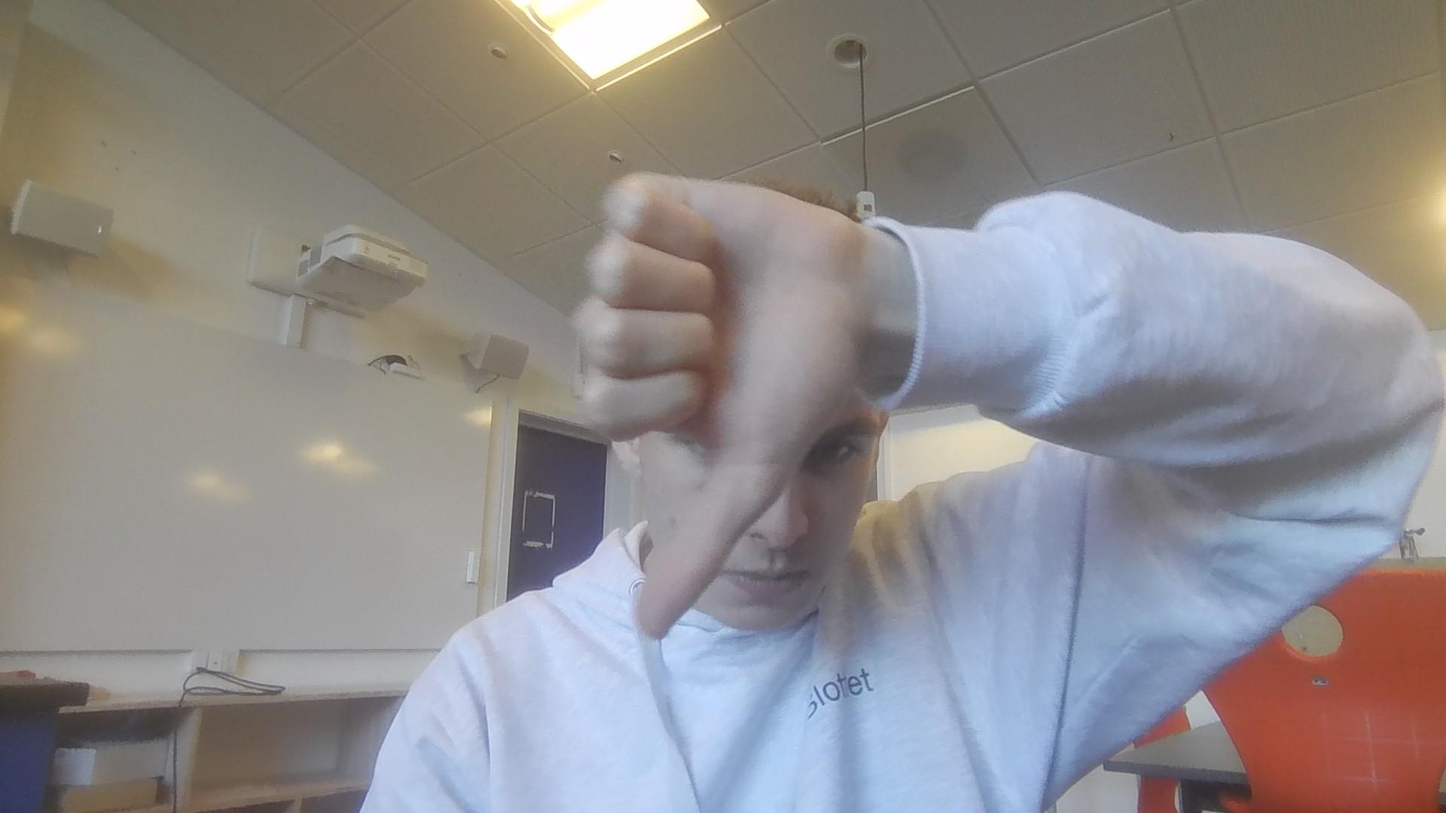thumbs down: (594, 177, 859, 654)
